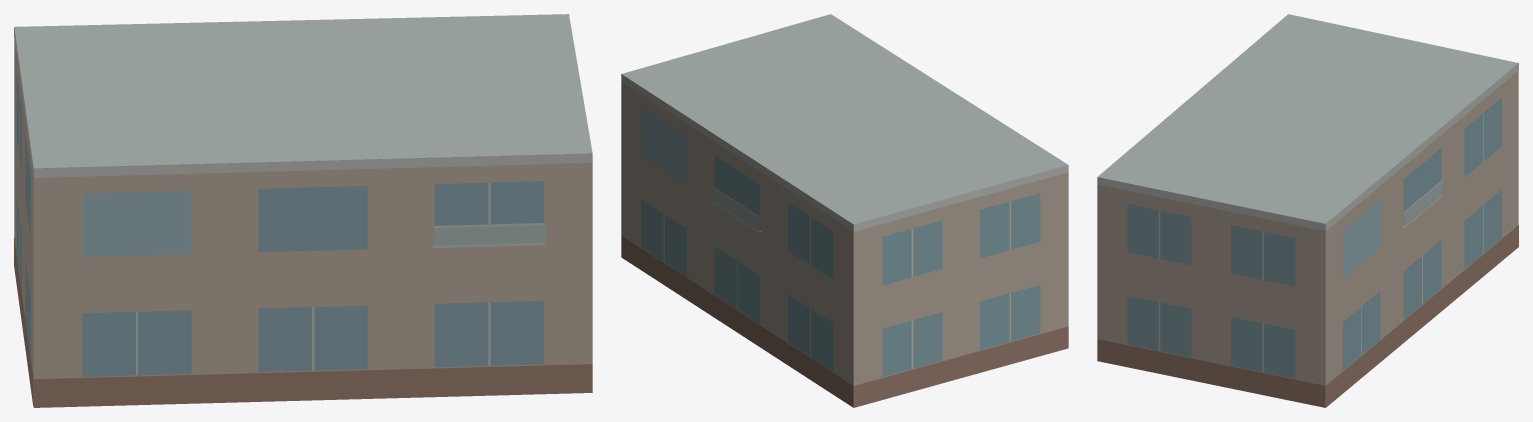
The model's file is survey-upis-32777889.glb.
The picture shows the model from 3 angles, left to right: view 1: azimuth 30°, elevation 25°; view 2: azimuth 150°, elevation 25°; view 3: azimuth 270°, elevation 25°; orthographic projection. The views are drawn at different scales.
Parts seen in each view (by area): view 1: survey-upis-32777889.tmp; view 2: survey-upis-32777889.tmp; view 3: survey-upis-32777889.tmp.
Boxes of the visible parts, x1,y1,x2,y2 form: survey-upis-32777889.tmp: (14,14,592,407); survey-upis-32777889.tmp: (621,14,1068,407); survey-upis-32777889.tmp: (1097,14,1518,407).
Bounding box in the file's own units: 14.93 × 6.1 × 12.67.
